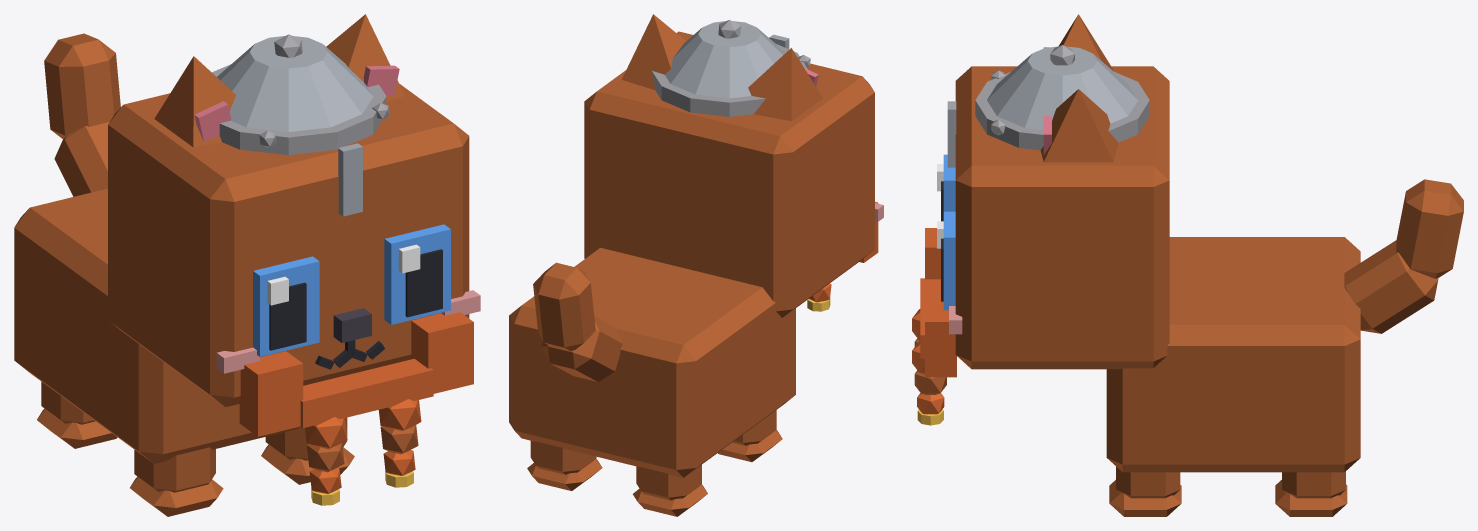
Rendered from CatCafe_Cat_Dwarf.glb.
3 renders of one model, left to right at view 1: azimuth 30°, elevation 25°; view 2: azimuth 150°, elevation 25°; view 3: azimuth 270°, elevation 25°, orthographic. The views are drawn at different scales.
Parts seen in each view (by area): view 1: CatCafe_Cat_Dwarf_Head, CatCafe_Cat_Dwarf_Prop, CatCafe_Cat_Dwarf_Body, CatCafe_Cat_Dwarf_Tail, CatCafe_Cat_Dwarf_Eye1, CatCafe_Cat_Dwarf_Eye2, CatCafe_Cat_Dwarf_LegF2, CatCafe_Cat_Dwarf_EarR, CatCafe_Cat_Dwarf_EarL, CatCafe_Cat_Dwarf_LegB2, CatCafe_Cat_Dwarf_LegF1; view 2: CatCafe_Cat_Dwarf_Head, CatCafe_Cat_Dwarf_Body, CatCafe_Cat_Dwarf_Prop, CatCafe_Cat_Dwarf_Tail, CatCafe_Cat_Dwarf_EarR, CatCafe_Cat_Dwarf_LegB2, CatCafe_Cat_Dwarf_LegB1, CatCafe_Cat_Dwarf_EarL, CatCafe_Cat_Dwarf_LegF2; view 3: CatCafe_Cat_Dwarf_Head, CatCafe_Cat_Dwarf_Body, CatCafe_Cat_Dwarf_Prop, CatCafe_Cat_Dwarf_Tail, CatCafe_Cat_Dwarf_EarL, CatCafe_Cat_Dwarf_LegF1, CatCafe_Cat_Dwarf_LegB1, CatCafe_Cat_Dwarf_Eye1, CatCafe_Cat_Dwarf_EarR, CatCafe_Cat_Dwarf_Eye2.
Boxes of the visible parts, x1,y1,x2,y2 form: CatCafe_Cat_Dwarf_Head: (108,84,480,407); CatCafe_Cat_Dwarf_Prop: (212,34,473,505); CatCafe_Cat_Dwarf_Body: (14,188,300,463); CatCafe_Cat_Dwarf_Tail: (44,33,120,196); CatCafe_Cat_Dwarf_Eye1: (384,224,450,324); CatCafe_Cat_Dwarf_Eye2: (253,256,319,356); CatCafe_Cat_Dwarf_LegF2: (130,447,223,516); CatCafe_Cat_Dwarf_EarR: (154,56,235,147); CatCafe_Cat_Dwarf_EarL: (326,14,404,101); CatCafe_Cat_Dwarf_LegB2: (37,381,117,448); CatCafe_Cat_Dwarf_LegF1: (261,417,354,484); CatCafe_Cat_Dwarf_Head: (584,31,883,317); CatCafe_Cat_Dwarf_Body: (509,247,795,477); CatCafe_Cat_Dwarf_Prop: (652,19,878,311); CatCafe_Cat_Dwarf_Tail: (533,262,622,381); CatCafe_Cat_Dwarf_EarR: (748,48,822,121); CatCafe_Cat_Dwarf_LegB2: (633,465,707,516); CatCafe_Cat_Dwarf_LegB1: (527,440,602,490); CatCafe_Cat_Dwarf_EarL: (621,14,685,89); CatCafe_Cat_Dwarf_LegF2: (718,410,782,462); CatCafe_Cat_Dwarf_Head: (949,66,1169,369); CatCafe_Cat_Dwarf_Body: (1106,237,1360,472); CatCafe_Cat_Dwarf_Prop: (912,45,1149,425); CatCafe_Cat_Dwarf_Tail: (1344,179,1463,333); CatCafe_Cat_Dwarf_EarL: (1040,89,1118,162); CatCafe_Cat_Dwarf_LegF1: (1109,466,1181,516); CatCafe_Cat_Dwarf_LegB1: (1275,471,1347,516); CatCafe_Cat_Dwarf_Eye1: (937,211,955,310); CatCafe_Cat_Dwarf_EarR: (1043,14,1113,71); CatCafe_Cat_Dwarf_Eye2: (937,154,955,221).
Size of the model in its own units: 1 by 1.79 by 2.06.
1 material, 1 textured.
